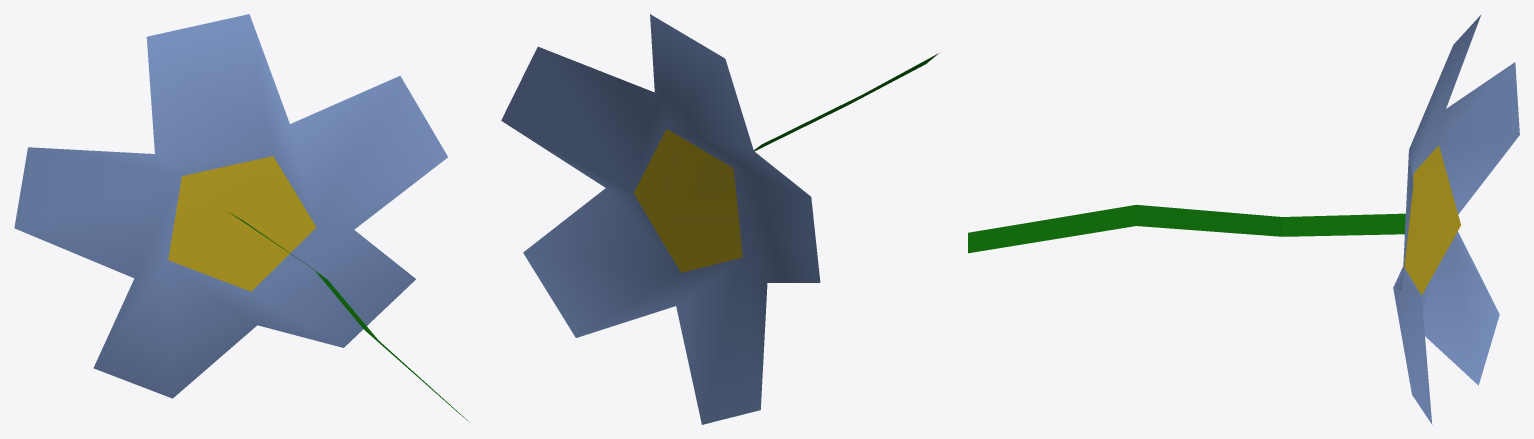
File: floare5.fbx
3 views of the same model, side by side, from view 1: azimuth 30°, elevation 25°; view 2: azimuth 150°, elevation 25°; view 3: azimuth 270°, elevation 25° (orthographic). The views are drawn at different scales.
Parts seen in each view (by area): view 1: Flowers 1; view 2: Flowers 1; view 3: Flowers 1.
Part boxes in pixels (bbox=[...]): Flowers 1: bbox=[14, 14, 469, 422]; Flowers 1: bbox=[501, 14, 938, 424]; Flowers 1: bbox=[968, 14, 1519, 424].
Bounding box in the file's own units: 28.93 × 28 × 37.69.
